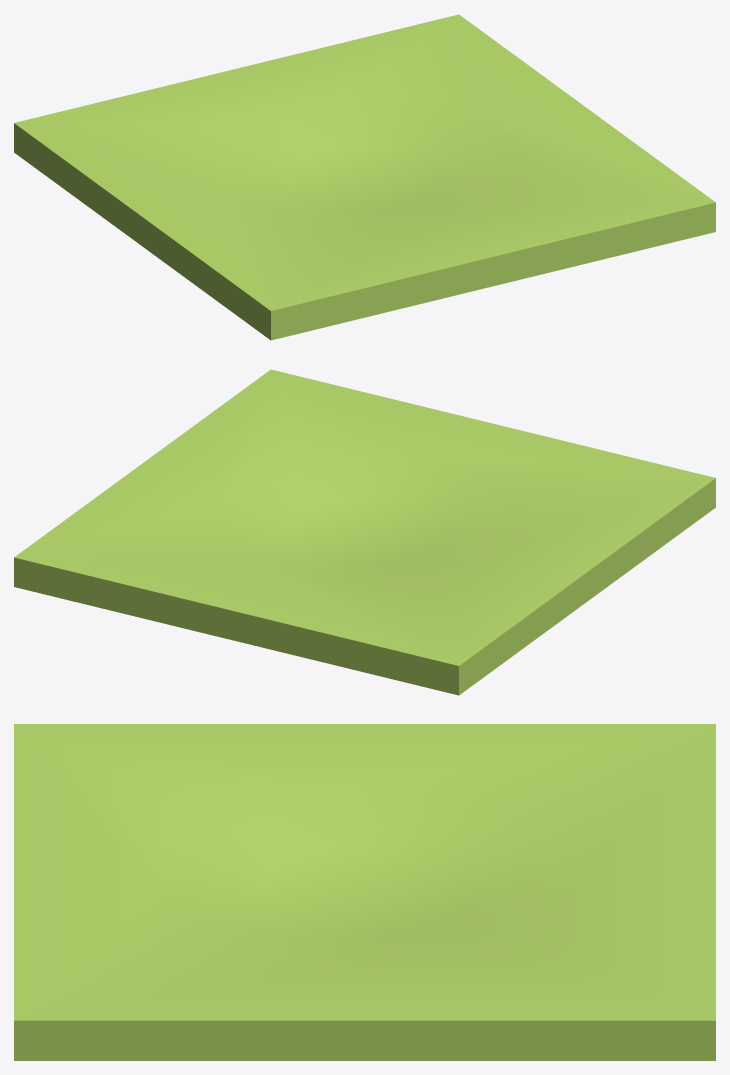
Rendered from bumpDown.fbx.
The picture shows the model from 3 angles, top to bottom: view 1: azimuth 30°, elevation 25°; view 2: azimuth 150°, elevation 25°; view 3: azimuth 270°, elevation 25°; orthographic projection. The views are drawn at different scales.
Visible parts, largest first — view 1: bumpDown; view 2: bumpDown; view 3: bumpDown.
Boxes of the visible parts, x1=… form: bumpDown: x1=14, y1=14, x2=715, y2=340; bumpDown: x1=14, y1=369, x2=715, y2=695; bumpDown: x1=14, y1=724, x2=715, y2=1060.
Size of the model in its own units: 10 by 0.6333 by 10.
